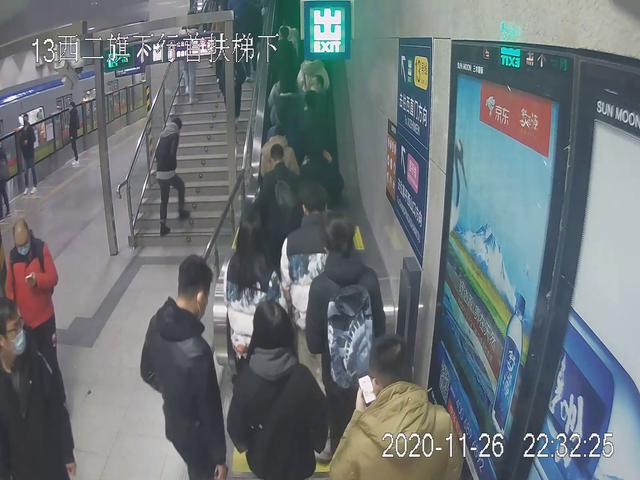person: (306, 210, 394, 441), (141, 254, 230, 477), (234, 298, 331, 472), (1, 294, 82, 480), (226, 204, 286, 398), (5, 217, 62, 413), (150, 119, 193, 239), (62, 103, 85, 168), (20, 115, 37, 194)
